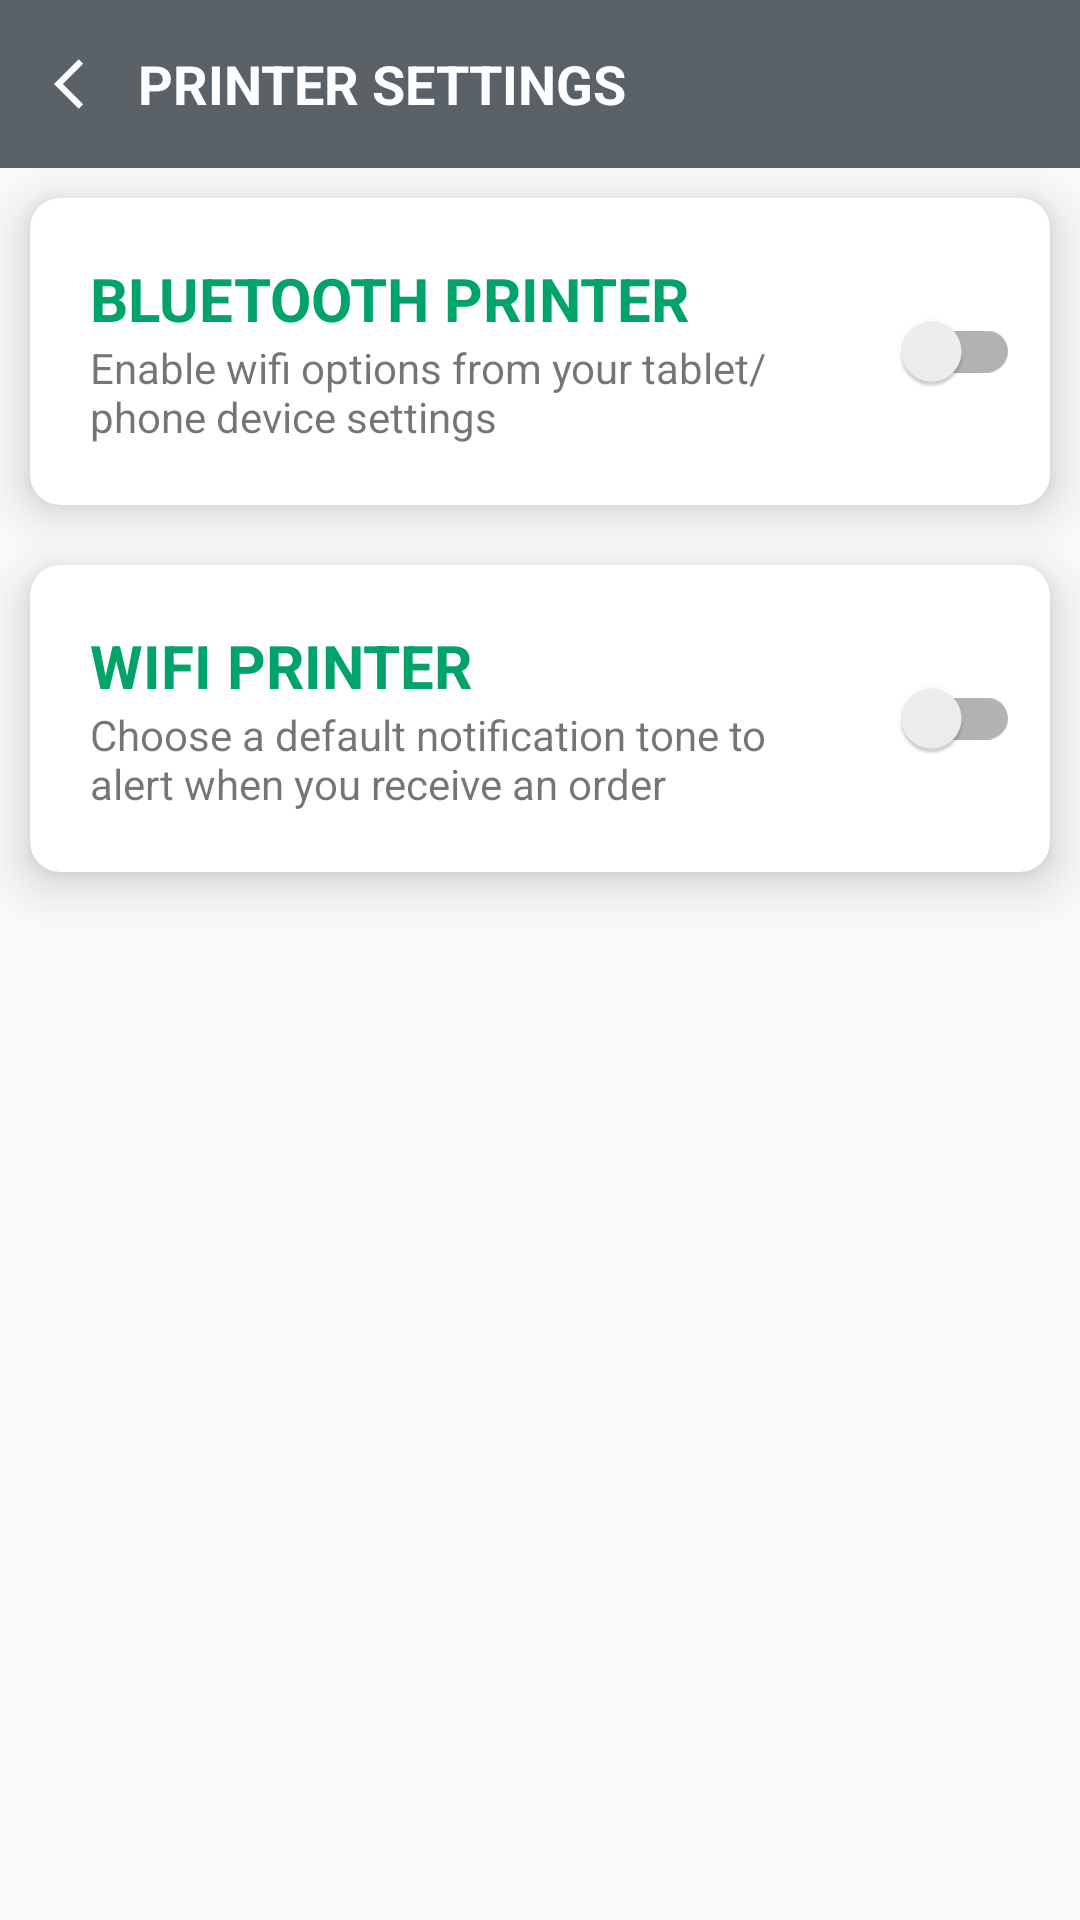

Screen size 1080x1920. Icon name, then its center in pixels as (x=x, y=y):
arrow back: (x=68, y=84)
